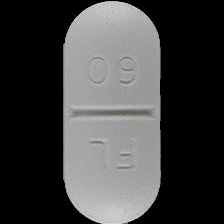49909-005: (0, 0, 224, 224)
